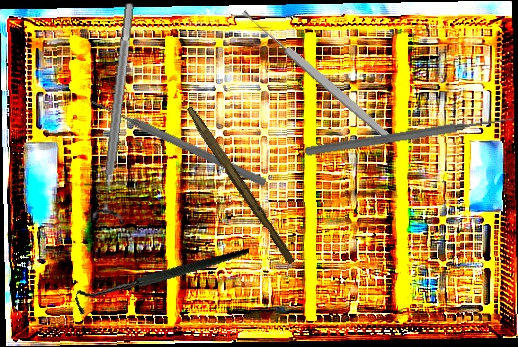Fixation Ring: (88, 1, 148, 226)
Hook Surgical: (72, 215, 250, 347)
Pusher: (88, 95, 268, 189), (304, 112, 515, 159)
Scalpel Handle: (181, 105, 299, 266)
Surgical Spoon: (239, 6, 395, 144)
